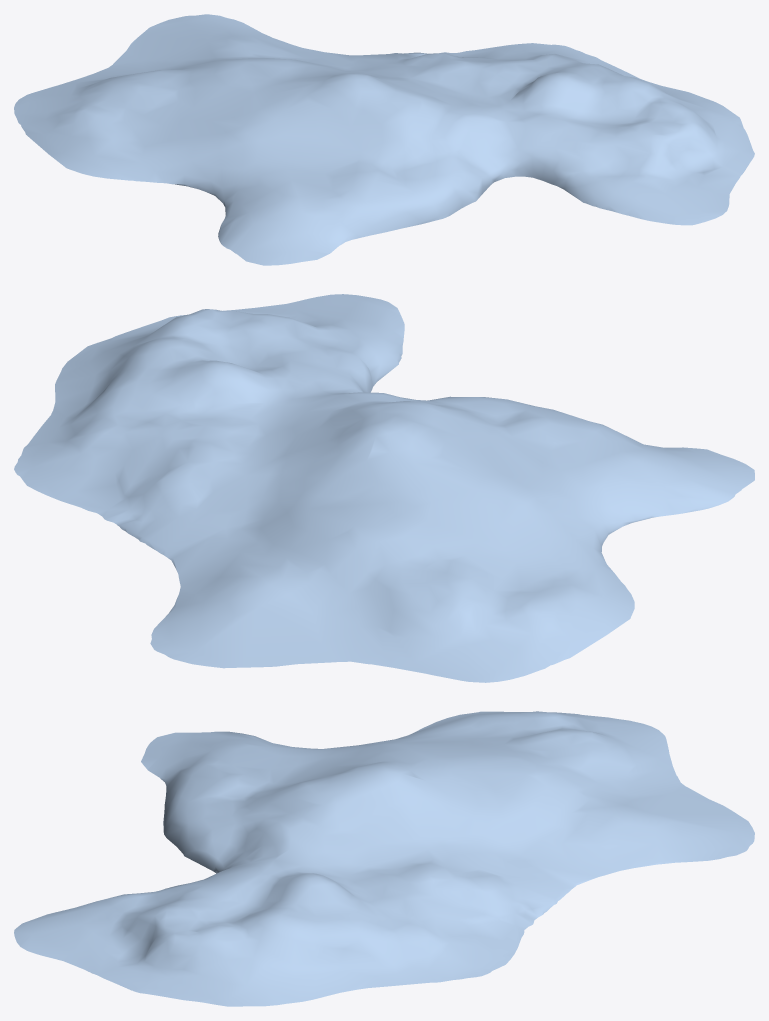
Rendered from IcePatchSmall_02_Bumpy.fbx.
3 renders of one model, top to bottom at view 1: azimuth 30°, elevation 25°; view 2: azimuth 150°, elevation 25°; view 3: azimuth 270°, elevation 25°, orthographic. The views are drawn at different scales.
Visible parts, largest first — view 1: IcePatchSmall_02_Bumpy.001; view 2: IcePatchSmall_02_Bumpy.001; view 3: IcePatchSmall_02_Bumpy.001.
Part boxes in pixels (x1,y1,x2,y2): IcePatchSmall_02_Bumpy.001: (14,14,754,265); IcePatchSmall_02_Bumpy.001: (14,294,754,682); IcePatchSmall_02_Bumpy.001: (14,711,754,1006).
Size of the model in its own units: 1.71 by 0.189 by 1.81.
